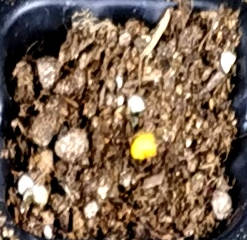chilli seed: (130, 132, 157, 159)
